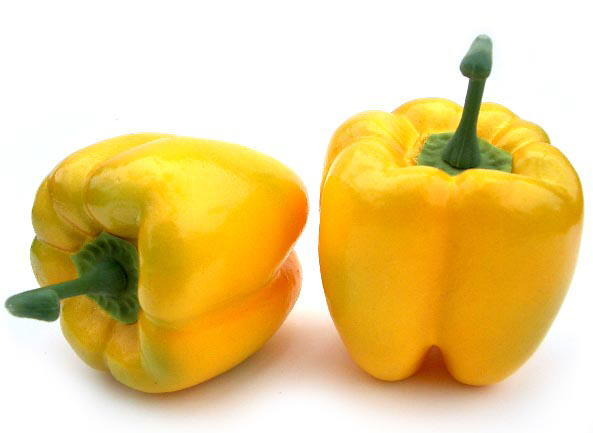capsicum: (316, 33, 585, 388), (4, 131, 310, 394)
